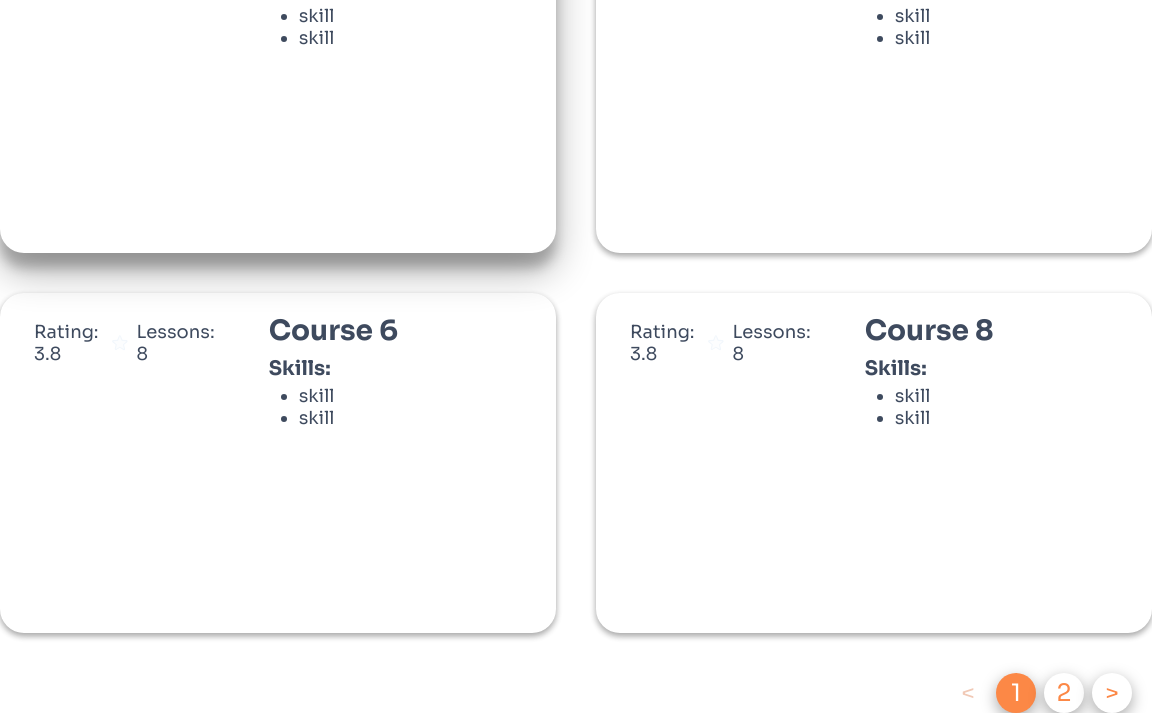
it: Courses List component › should handle that page clicks correctly
(page scrolled)
Click the button ">" at (1112, 693), box 1105,678 -> 1119,708
(page scrolled)
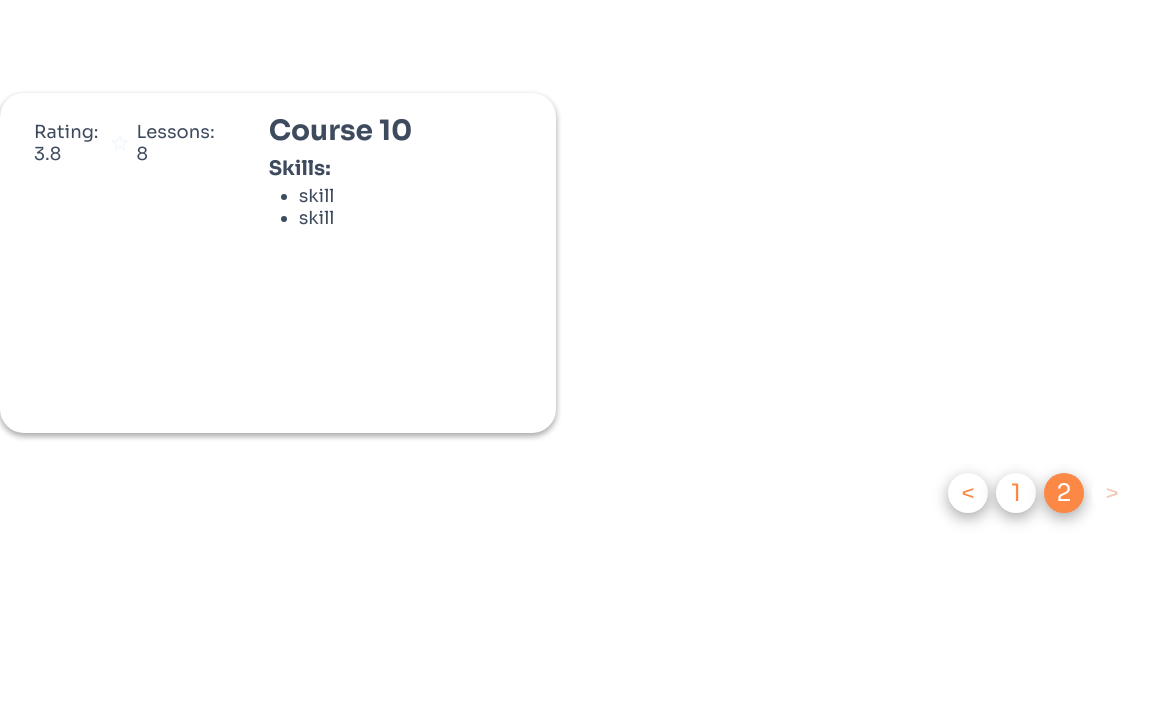
Click the button "<" at (968, 493), box 961,478 -> 975,508
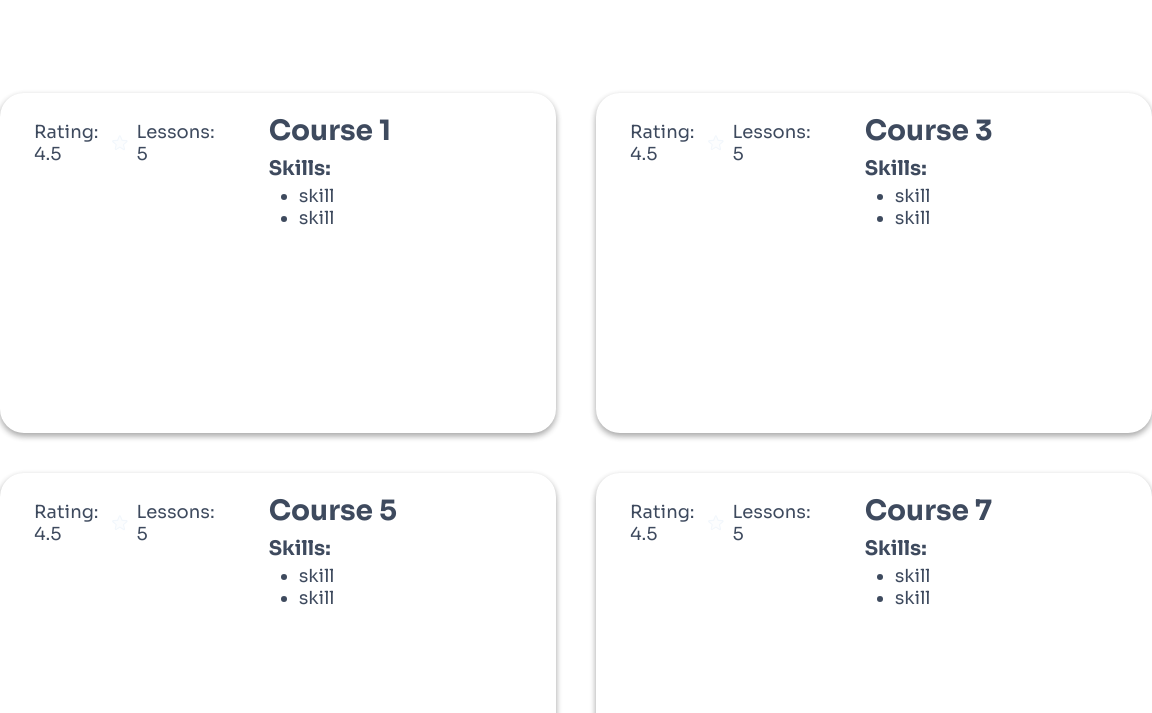
Expected: the heading "Course 1" is shown, 269,113 -> 391,148
Result: the heading "Course 3" is shown at 865,113 -> 993,148
